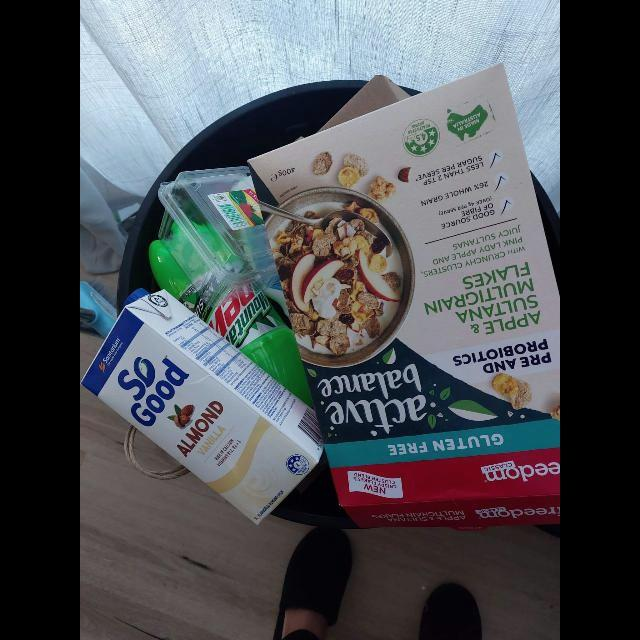cardboard: (248, 64, 560, 532), (317, 75, 412, 133)
plastic_bottle: (148, 240, 314, 409)
